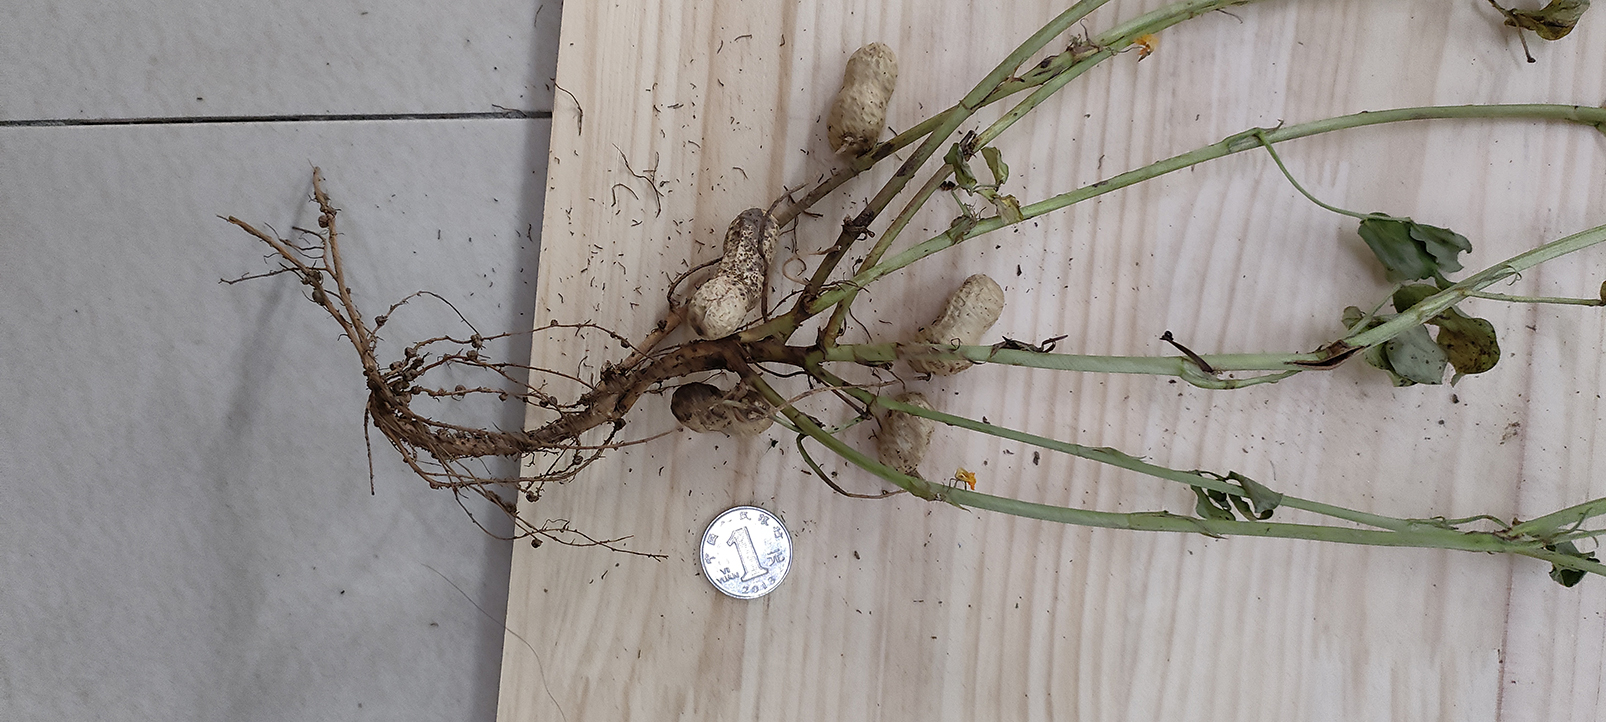h: (687, 206, 780, 339), (908, 275, 1005, 374), (832, 42, 899, 156), (876, 392, 934, 471)
l: (669, 381, 776, 436)
